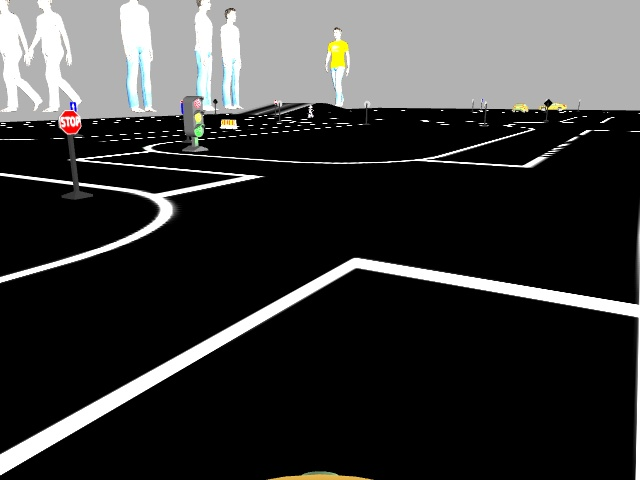ClosedRoadStand: (221, 119, 237, 129)
Stop: (56, 112, 81, 132)
TrafficLight: (184, 96, 203, 137)
